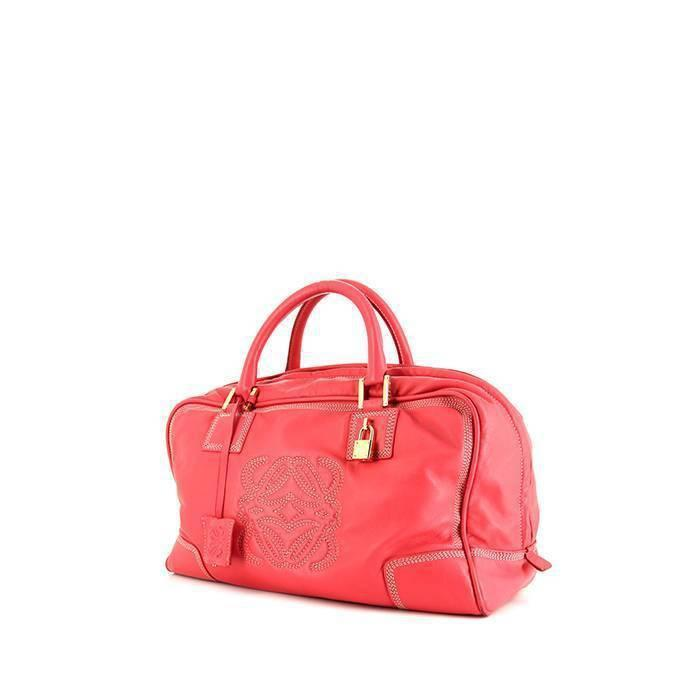LOEWE: (225, 455, 354, 575)
